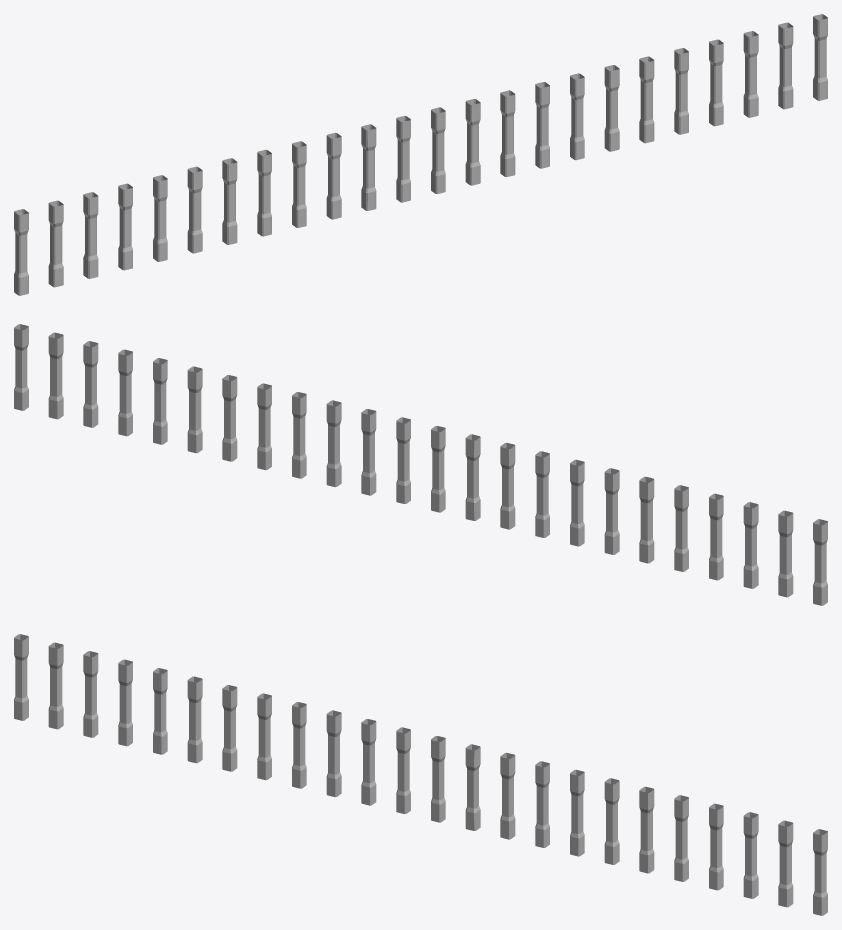
File: Museum_Handrail_Post_21.fbx
3 views of the same model, one above another, from view 1: azimuth 30°, elevation 25°; view 2: azimuth 150°, elevation 25°; view 3: azimuth 330°, elevation 25° (orthographic).
Visible parts, largest first — view 1: Cube.012; view 2: Cube.012; view 3: Cube.012.
Part boxes in pixels (x1,y1,x2,y2): Cube.012: [14, 14, 827, 295]; Cube.012: [14, 324, 827, 605]; Cube.012: [14, 634, 827, 915].
Size of the model in its own units: 12.28 by 1.17 by 0.155.
